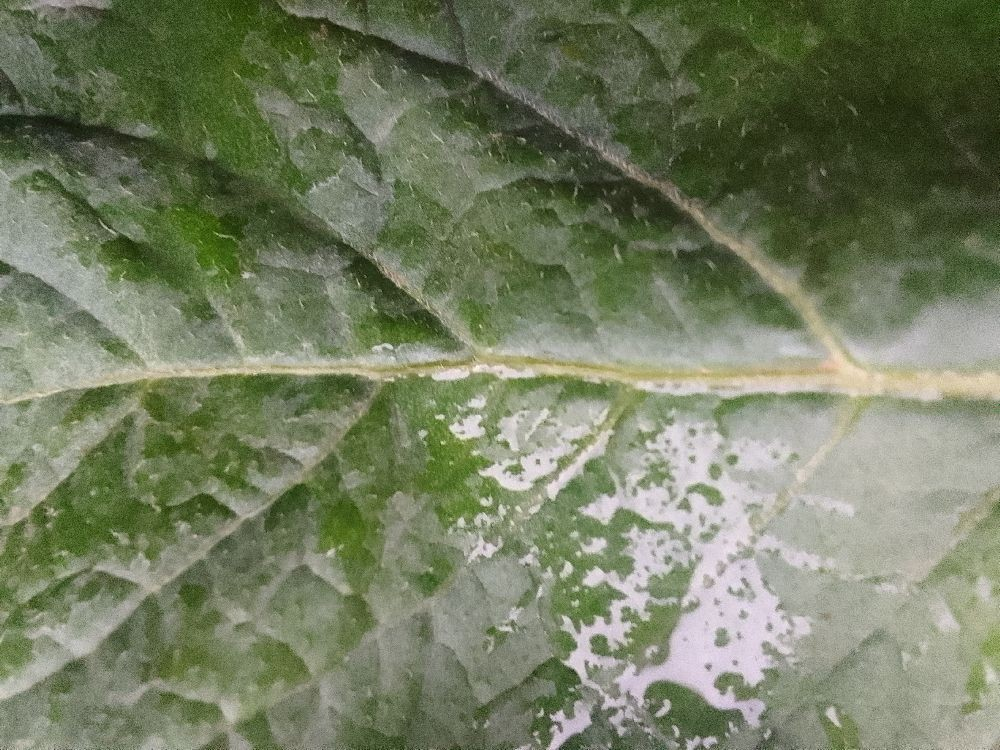late_blight: (302, 46, 854, 431), (309, 627, 611, 750), (0, 552, 146, 641), (635, 671, 752, 750)
